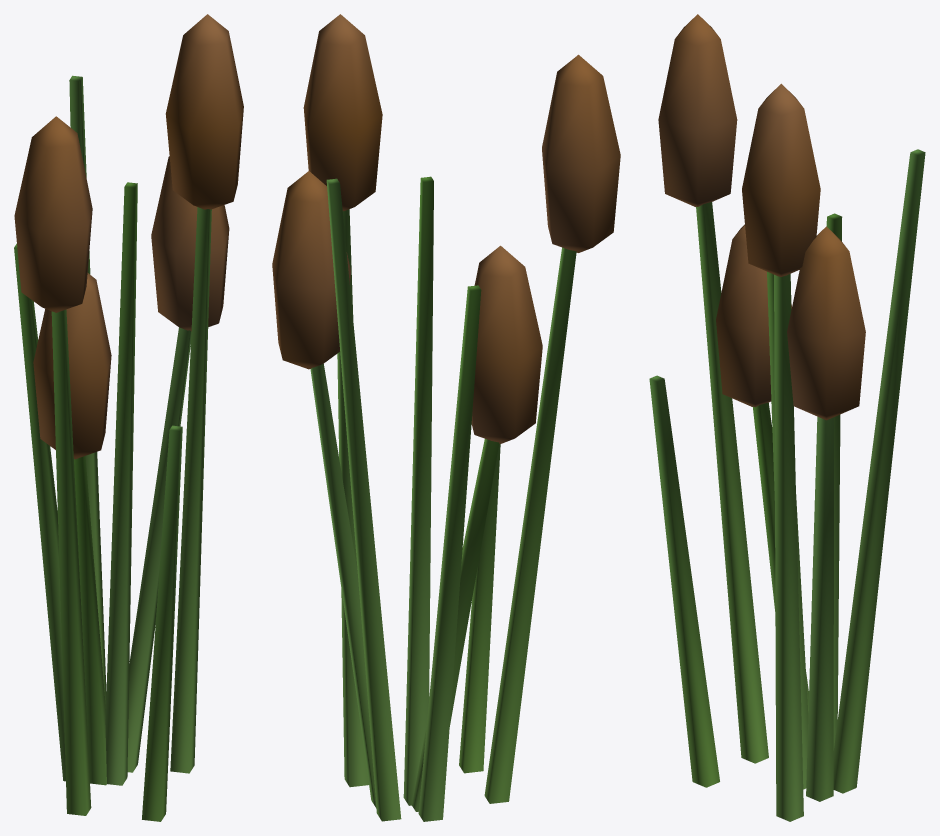
Rendered from world_reeds_a.fbx.
3 views of the same model, side by side, from view 1: azimuth 30°, elevation 25°; view 2: azimuth 150°, elevation 25°; view 3: azimuth 270°, elevation 25° (orthographic). The views are drawn at different scales.
Visible parts, largest first — view 1: world_reeds_a; view 2: world_reeds_a; view 3: world_reeds_a.
Part boxes in pixels (x1,y1,x2,y2): world_reeds_a: (14,14,243,821); world_reeds_a: (272,14,620,821); world_reeds_a: (649,14,925,821).
Bounding box in the file's own units: 88.27 × 237 × 79.91.
